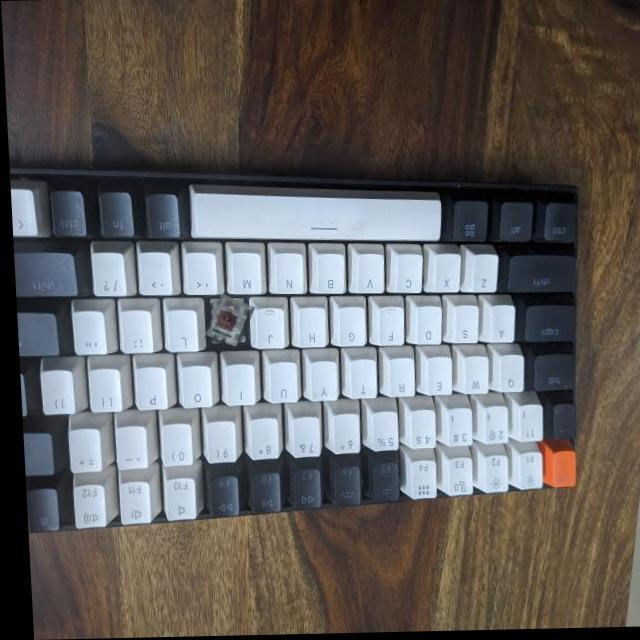key-switch: (202, 295, 248, 349)
